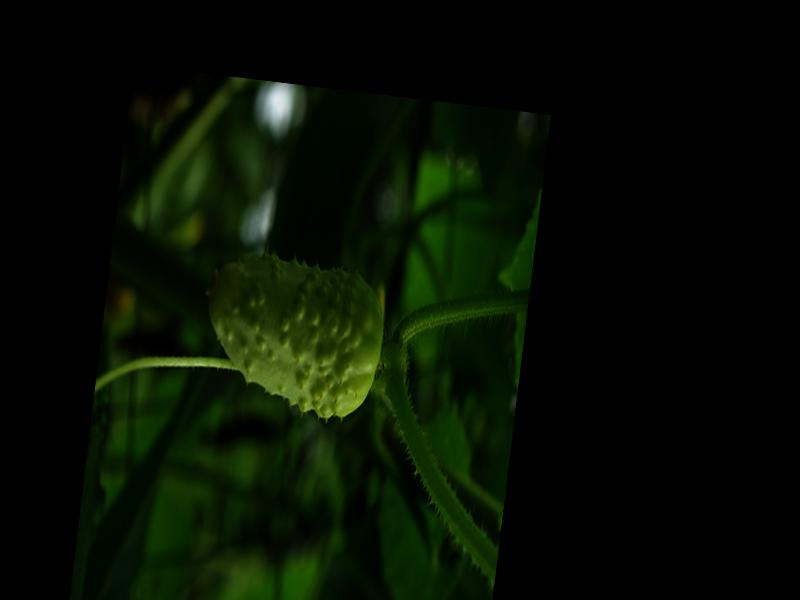Cucumber: (190, 249, 391, 425)
